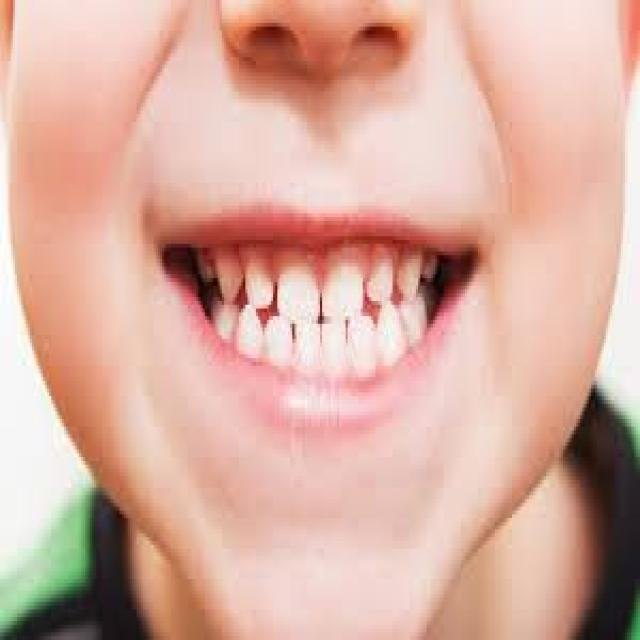tooth: (382, 312, 405, 370), (335, 263, 363, 305), (282, 266, 312, 304), (322, 324, 346, 369), (237, 316, 258, 358), (215, 255, 239, 290), (250, 259, 268, 301), (397, 256, 416, 294), (356, 328, 374, 366), (266, 324, 284, 358), (213, 305, 235, 331), (367, 274, 390, 294), (296, 332, 316, 354)
